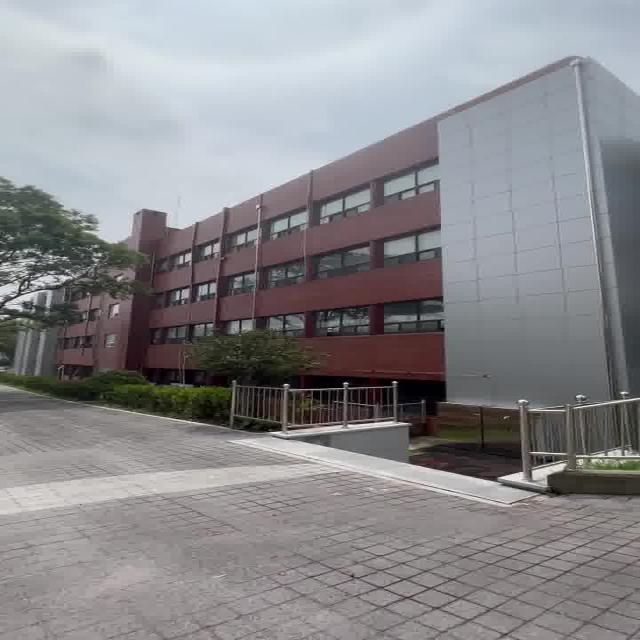building: (133, 154, 640, 361)
